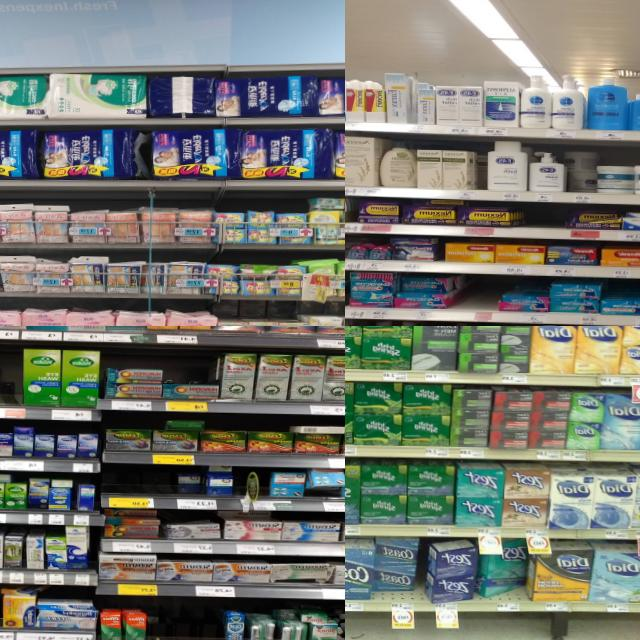100- O.O.S: (100, 464, 168, 509), (146, 600, 199, 640), (232, 466, 271, 510), (0, 344, 22, 417), (471, 278, 497, 322), (537, 204, 563, 238), (200, 600, 222, 640), (103, 326, 142, 342)
